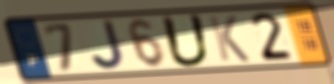2: (249, 11, 297, 62)
6: (126, 17, 167, 69)
7: (41, 22, 77, 74)
J: (88, 18, 130, 72)
K: (205, 14, 252, 64)
U: (158, 13, 214, 69)
